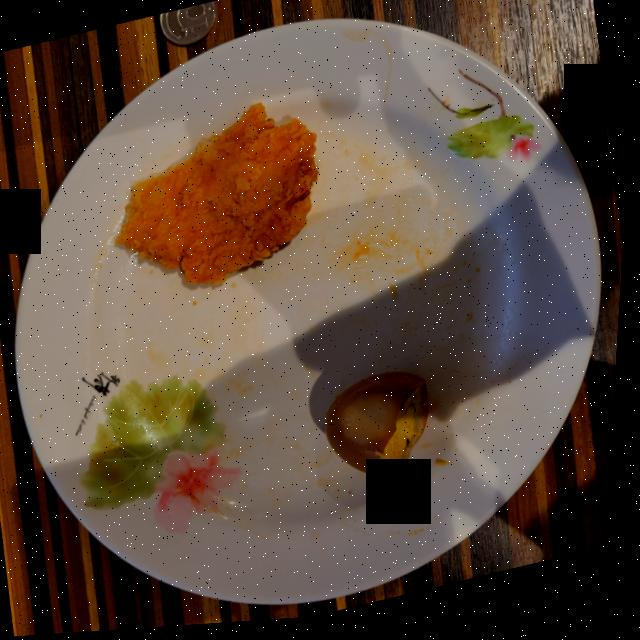coin: (160, 3, 216, 47)
fried chicken cutlet: (118, 106, 320, 286)
soy egg: (330, 376, 434, 481)
